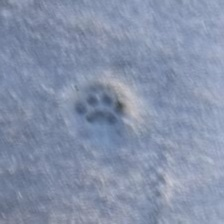raccoon: (69, 70, 183, 169)
